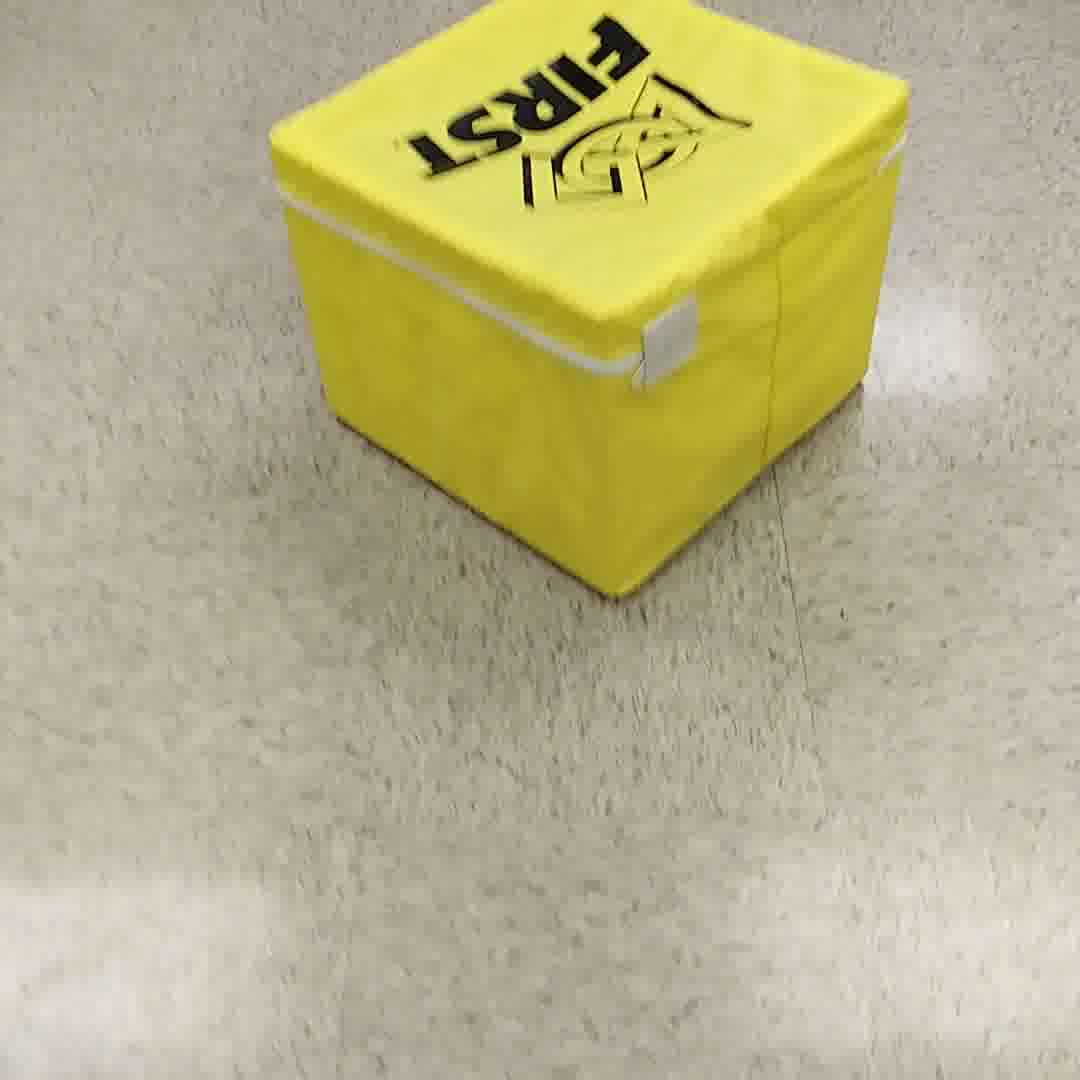box: (253, 4, 923, 611)
